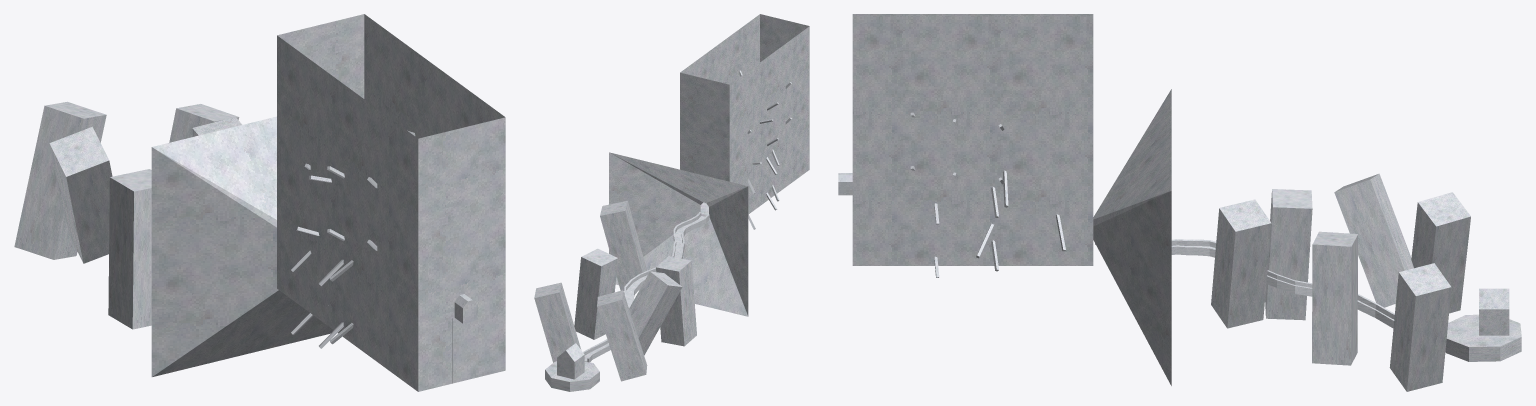
File: Time_Room.glb
3 views of the same model, side by side, from view 1: azimuth 30°, elevation 25°; view 2: azimuth 150°, elevation 25°; view 3: azimuth 270°, elevation 25° (orthographic). The views are drawn at different scales.
Visible parts, largest first — view 1: Plane, Cube.024, Cube.027, Cube.029, Cube.028, Cube.026; view 2: Plane, Cube.027, Cube.026, Cube.025, Cube.024, Cube.029, Cube.028, Cube.030, Cylinder.006, Cube.031; view 3: Plane, Cube.028, Cube.025, Cube.026, Cube.029, Cube.024, Cube.027, Cylinder.006, Cube.030, Cube.031.
Part boxes in pixels (box(x1,y1,x2,y2)): Plane: box(151, 14, 505, 391); Cube.024: box(108, 169, 151, 329); Cube.027: box(14, 101, 106, 259); Cube.029: box(49, 126, 112, 263); Cube.028: box(169, 104, 239, 142); Cube.026: box(192, 117, 242, 136); Plane: box(609, 14, 809, 316); Cube.027: box(597, 290, 647, 381); Cube.026: box(574, 248, 617, 339); Cube.025: box(600, 201, 646, 290); Cube.024: box(656, 256, 696, 346); Cube.029: box(629, 271, 682, 355); Cube.028: box(534, 282, 581, 362); Cube.030: box(583, 212, 709, 362); Cylinder.006: box(545, 361, 599, 391); Cube.031: box(557, 343, 584, 379); Plane: box(838, 14, 1171, 385); Cube.028: box(1389, 263, 1451, 391); Cube.025: box(1211, 199, 1271, 328); Cube.026: box(1312, 231, 1357, 365); Cube.029: box(1334, 173, 1413, 307); Cube.024: box(1265, 189, 1312, 320); Cube.027: box(1411, 192, 1470, 313); Cylinder.006: box(1445, 314, 1521, 361); Cube.030: box(1095, 239, 1394, 328); Cube.031: box(1479, 288, 1509, 335).
Size of the model in its own units: 33.23 by 49.9 by 93.98.
1 material, 1 textured.
